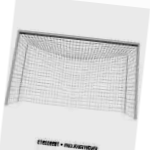goals: (4, 29, 139, 120)
